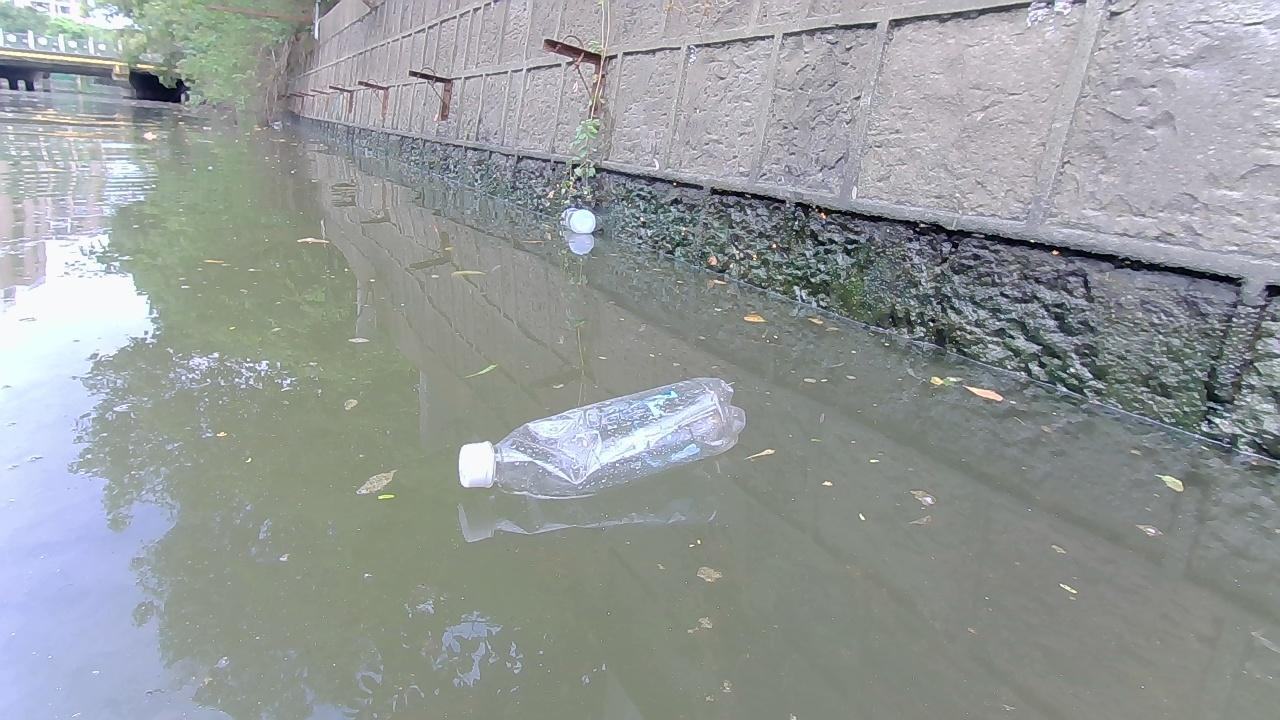bottle: (459, 371, 747, 495), (558, 208, 596, 233)
